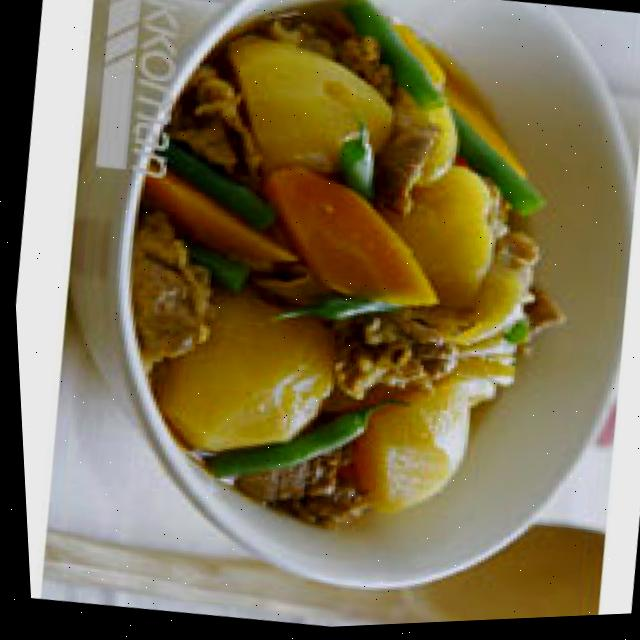牛肉菜式: (114, 0, 640, 635)
